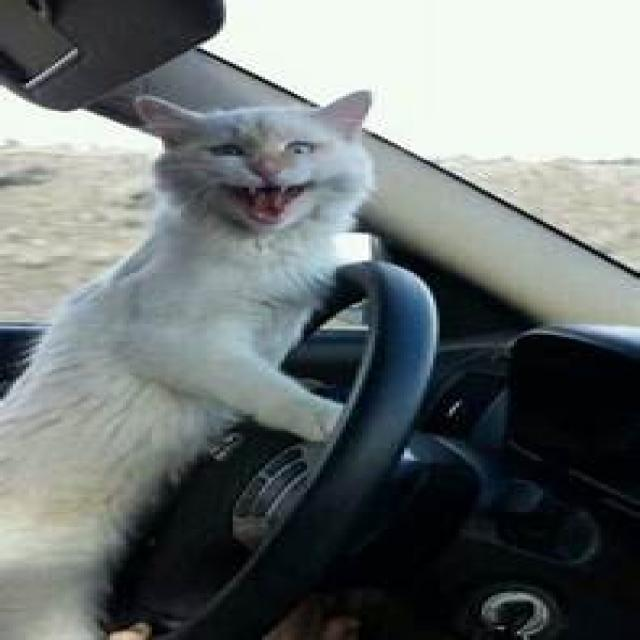cat: (0, 87, 375, 638)
